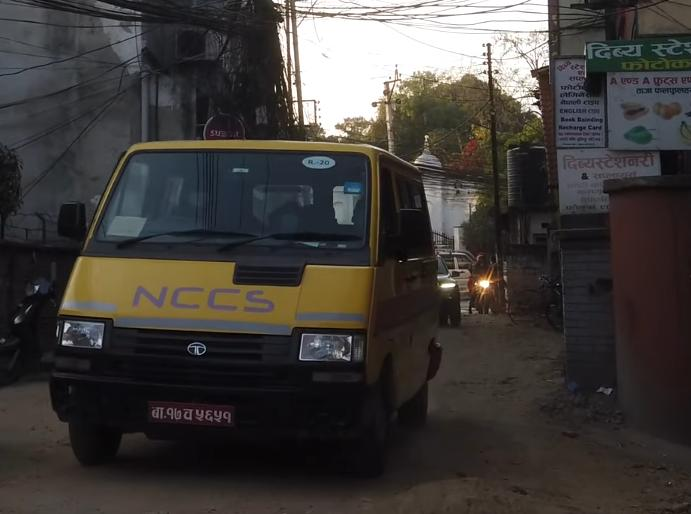school_bus: (41, 131, 457, 476)
